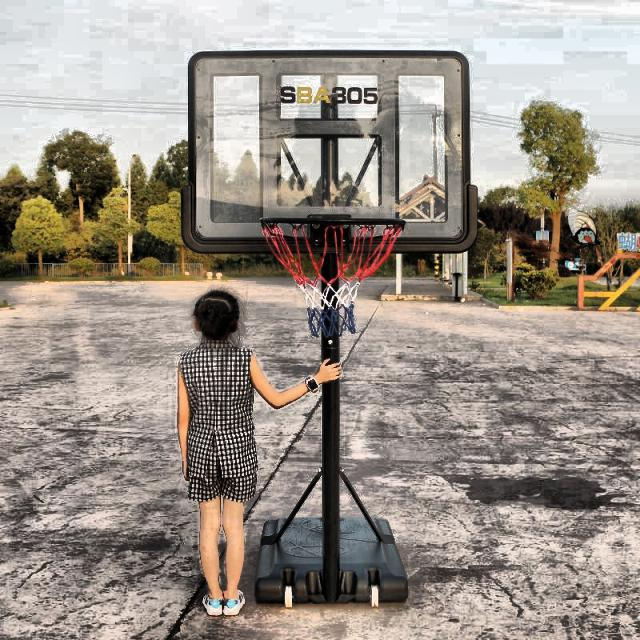rim: (260, 216, 406, 336)
